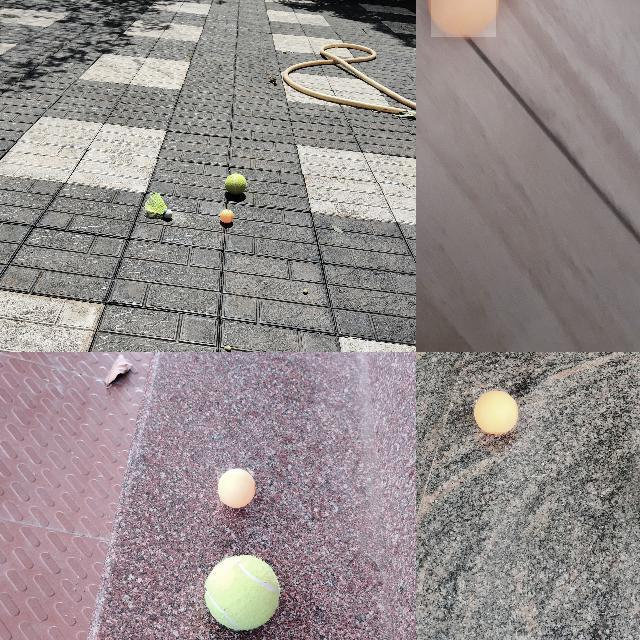ping-pong-ball: (430, 0, 498, 38), (473, 390, 517, 432), (217, 468, 255, 510), (220, 209, 232, 223)
